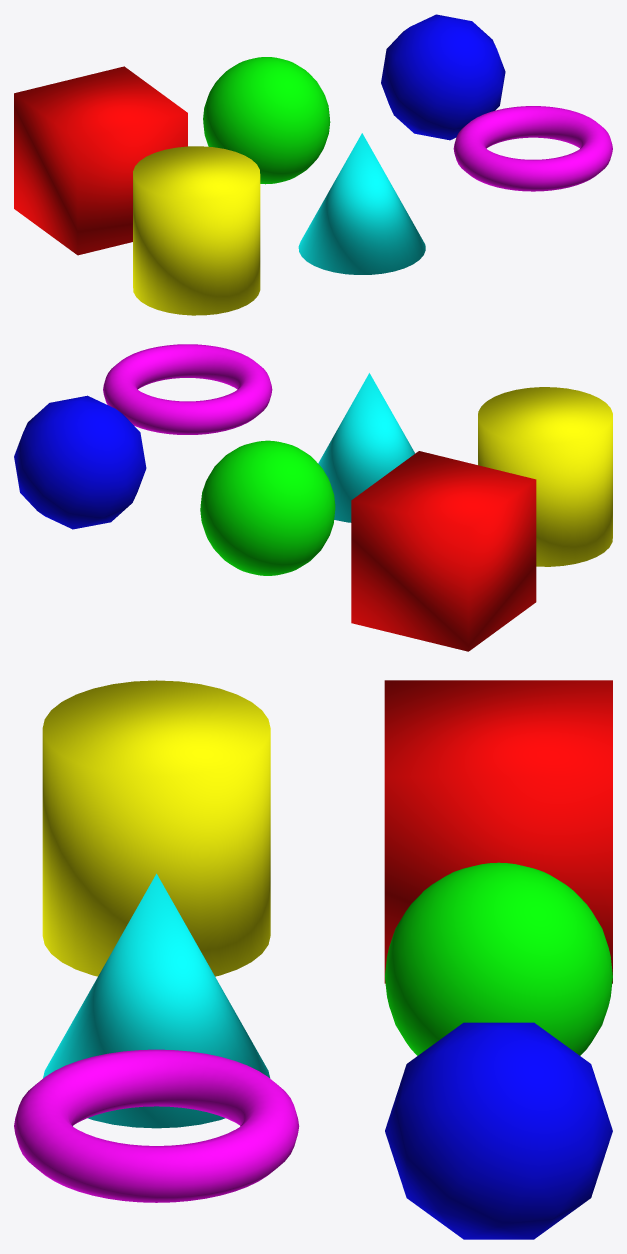
Rendered from Debug.fbx.
3 renders of one model, top to bottom at view 1: azimuth 30°, elevation 25°; view 2: azimuth 150°, elevation 25°; view 3: azimuth 270°, elevation 25°, orthographic. The views are drawn at different scales.
Visible parts, largest first — view 1: Cube, Cylinder, Sphere, Icosphere, Cone, Torus; view 2: Cube, Cylinder, Sphere, Icosphere, Torus, Cone; view 3: Cylinder, Cube, Icosphere, Sphere, Torus, Cone.
Boxes of the visible parts, left/top/right/bottom form: Cube: left=14, top=66, right=187, bottom=255; Cylinder: left=133, top=146, right=260, bottom=315; Sphere: left=203, top=57, right=330, bottom=184; Icosphere: left=381, top=14, right=505, bottom=140; Cone: left=298, top=133, right=425, bottom=274; Torus: left=453, top=106, right=612, bottom=191; Cube: left=351, top=451, right=536, bottom=651; Cylinder: left=478, top=387, right=612, bottom=566; Sphere: left=200, top=440, right=335, bottom=575; Icosphere: left=14, top=395, right=146, bottom=529; Torus: left=103, top=344, right=272, bottom=434; Cone: left=318, top=373, right=414, bottom=522; Cylinder: left=42, top=680, right=270, bottom=976; Cube: left=384, top=680, right=612, bottom=983; Icosphere: left=385, top=1022, right=612, bottom=1239; Sphere: left=385, top=862, right=612, bottom=1055; Torus: left=14, top=1049, right=299, bottom=1202; Cone: left=43, top=873, right=270, bottom=1128.
Size of what is drawn, in the model's own units: 835 by 200 by 525.
